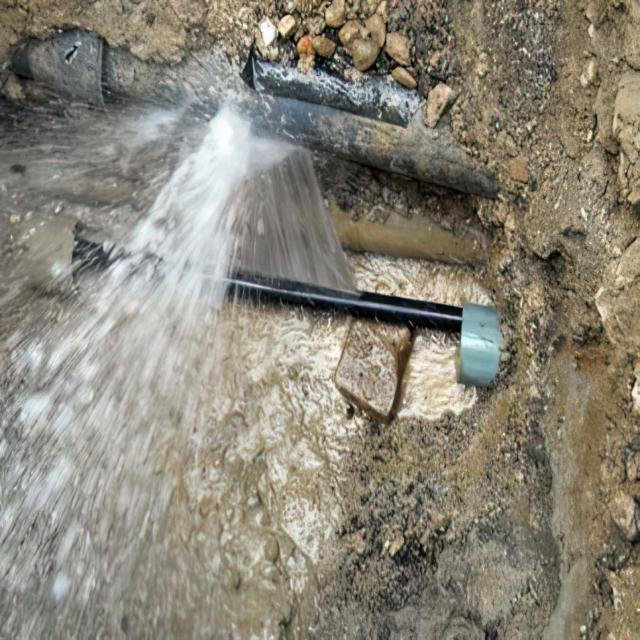leak: (0, 97, 354, 636)
